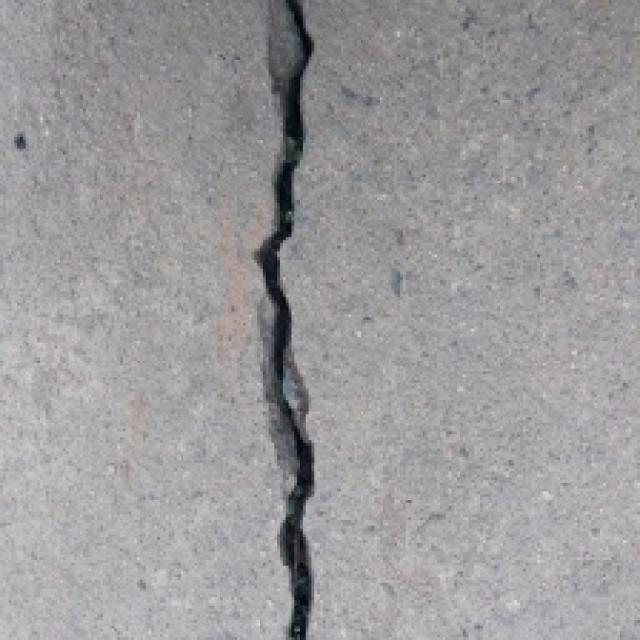SurfaceCrack: (232, 2, 342, 640)
